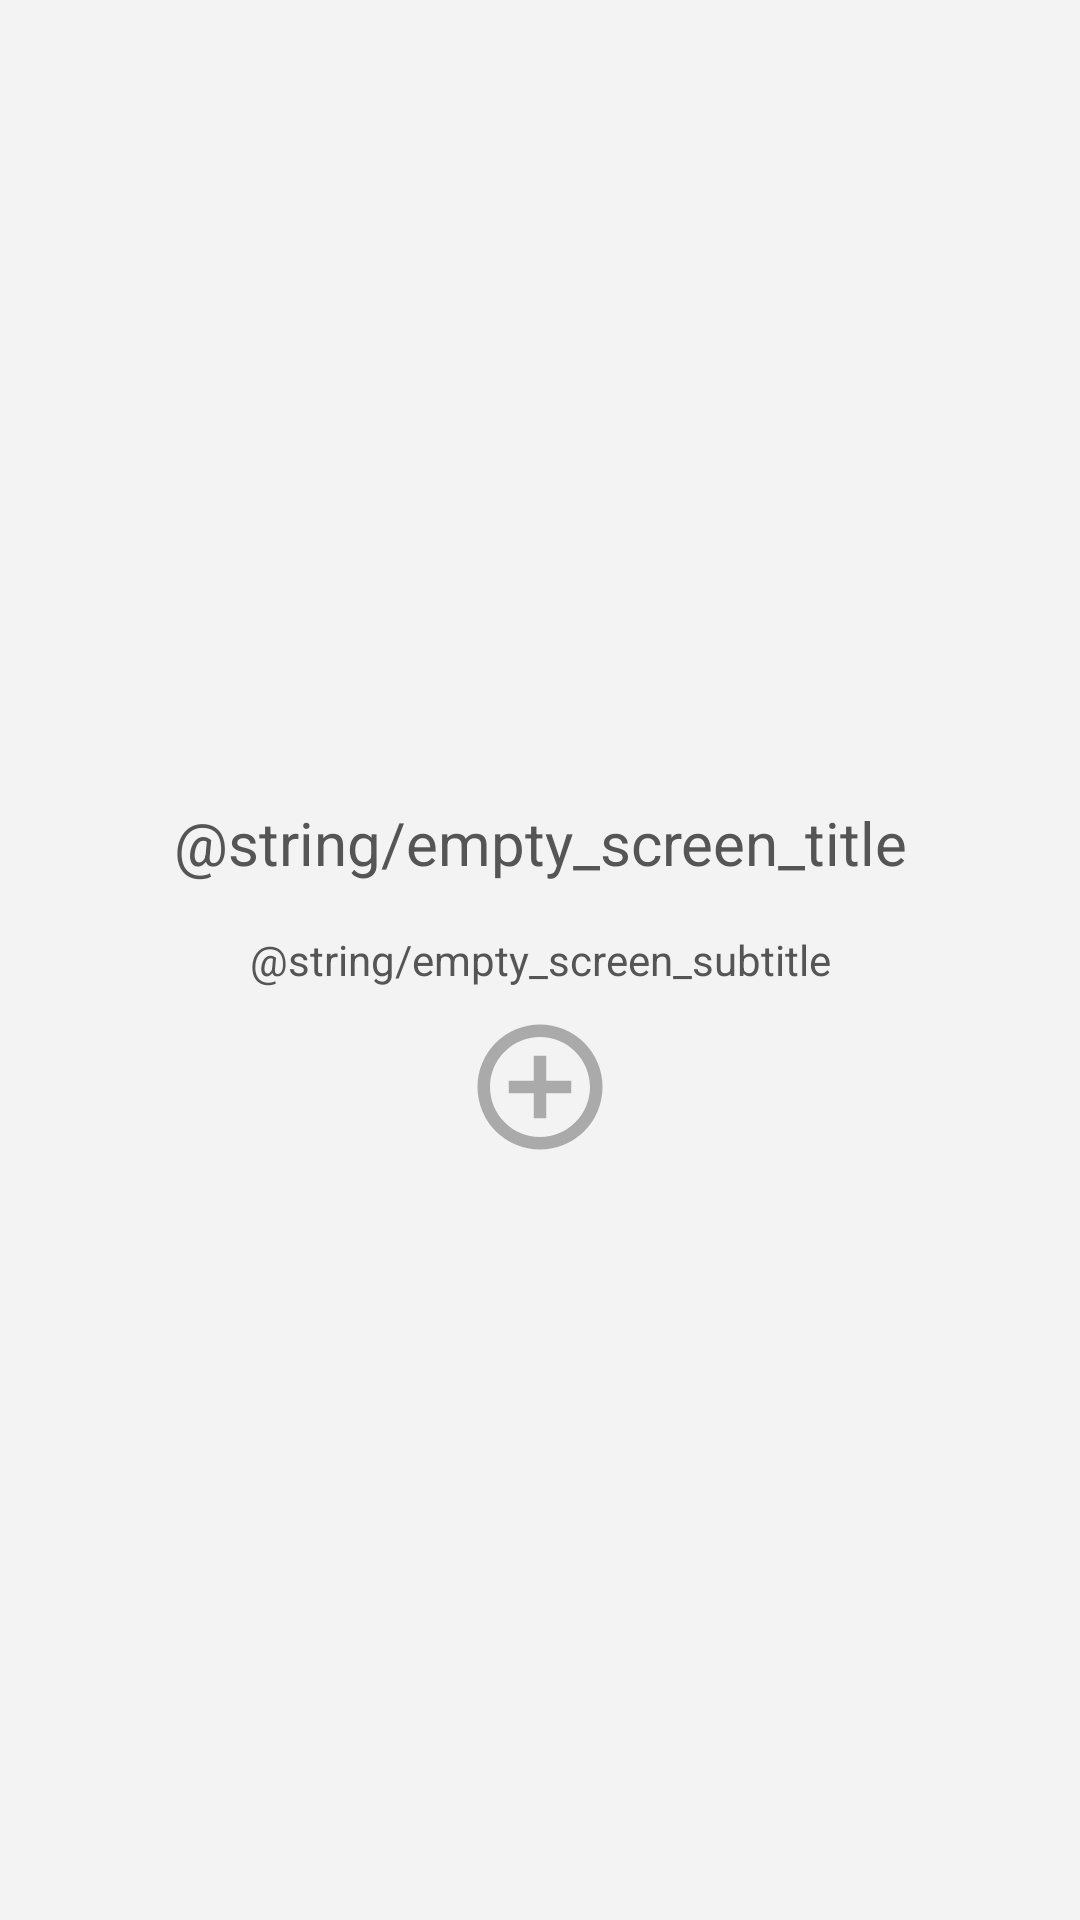

Icon click points for this 1080 x 1920 phone screenshot, format (x=x, y=y):
plus circle: (x=540, y=1087)
